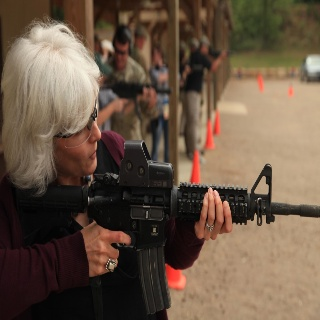rifle: (12, 139, 320, 319)
